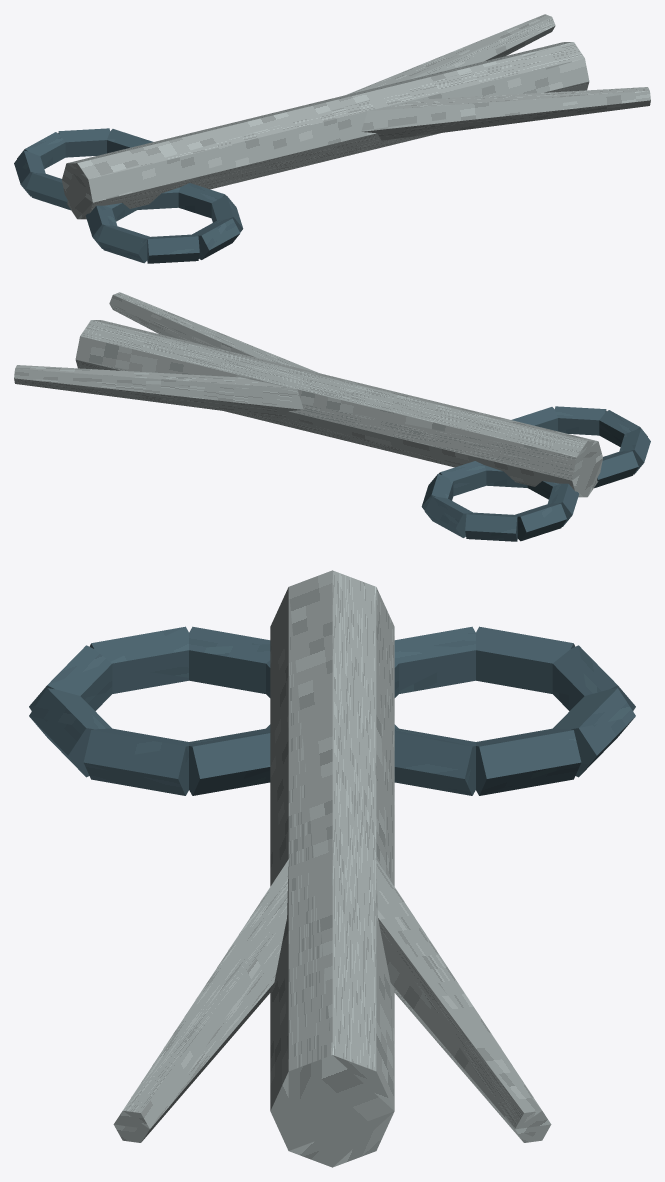
File: scissors_medical.glb
The picture shows the model from 3 angles, top to bottom: view 1: azimuth 30°, elevation 25°; view 2: azimuth 150°, elevation 25°; view 3: azimuth 270°, elevation 25°; orthographic projection. The views are drawn at different scales.
Parts seen in each view (by area): view 1: block_forged shank, block_blade 1, block_blade -1, block_handle eye 12, block_handle eye 13, block_handle eye -16, block_handle eye 11, block_handle eye -13, block_handle eye 17, block_handle eye -15, block_handle eye -14, block_handle eye 14 (+3 smaller); view 2: block_forged shank, block_blade -1, block_blade 1, block_handle eye -15, block_handle eye -14, block_handle eye 11, block_handle eye -16, block_handle eye 14, block_handle eye -10, block_handle eye 12, block_handle eye 13, block_handle eye -13 (+3 smaller); view 3: block_forged shank, block_blade -1, block_blade 1, block_handle eye -17, block_handle eye 10, block_handle eye -14, block_handle eye 13, block_handle eye -10, block_handle eye 17, block_handle eye -13, block_handle eye 14, block_handle eye -16 (+3 smaller).
Part boxes in pixels (<box>): block_forged shank: <box>62,42,589,219</box>; block_blade 1: <box>361,87,650,140</box>; block_blade -1: <box>345,14,555,95</box>; block_handle eye 12: <box>147,234,199,263</box>; block_handle eye 13: <box>98,225,149,263</box>; block_handle eye -16: <box>58,128,109,157</box>; block_handle eye 11: <box>192,218,240,259</box>; block_handle eye -13: <box>26,173,70,210</box>; block_handle eye 17: <box>178,183,225,218</box>; block_handle eye -15: <box>17,132,65,168</box>; block_handle eye -14: <box>14,150,45,196</box>; block_handle eye 14: <box>86,205,117,248</box>; block_forged shank: <box>75,320,602,497</box>; block_blade -1: <box>14,365,303,418</box>; block_blade 1: <box>109,292,319,373</box>; block_handle eye -15: <box>465,512,517,541</box>; block_handle eye -14: <box>515,503,566,541</box>; block_handle eye 11: <box>555,406,606,435</box>; block_handle eye -16: <box>424,496,472,537</box>; block_handle eye 14: <box>594,451,638,488</box>; block_handle eye -10: <box>439,461,486,496</box>; block_handle eye 12: <box>599,410,647,446</box>; block_handle eye 13: <box>619,428,650,474</box>; block_handle eye -13: <box>547,483,578,526</box>; block_forged shank: <box>270,570,394,1167</box>; block_blade -1: <box>375,858,551,1142</box>; block_blade 1: <box>113,858,289,1142</box>; block_handle eye -17: <box>476,728,581,795</box>; block_handle eye 10: <box>83,728,188,795</box>; block_handle eye -14: <box>476,626,575,693</box>; block_handle eye 13: <box>89,626,188,693</box>; block_handle eye -10: <box>394,728,475,795</box>; block_handle eye 17: <box>189,728,270,795</box>; block_handle eye -13: <box>394,626,475,693</box>; block_handle eye 14: <box>189,626,270,693</box>; block_handle eye -16: <box>553,688,635,777</box>.
Bounding box in the file's own units: 0.14 × 0.0143 × 0.0679.
Materials: 1 (1 with a texture image).
